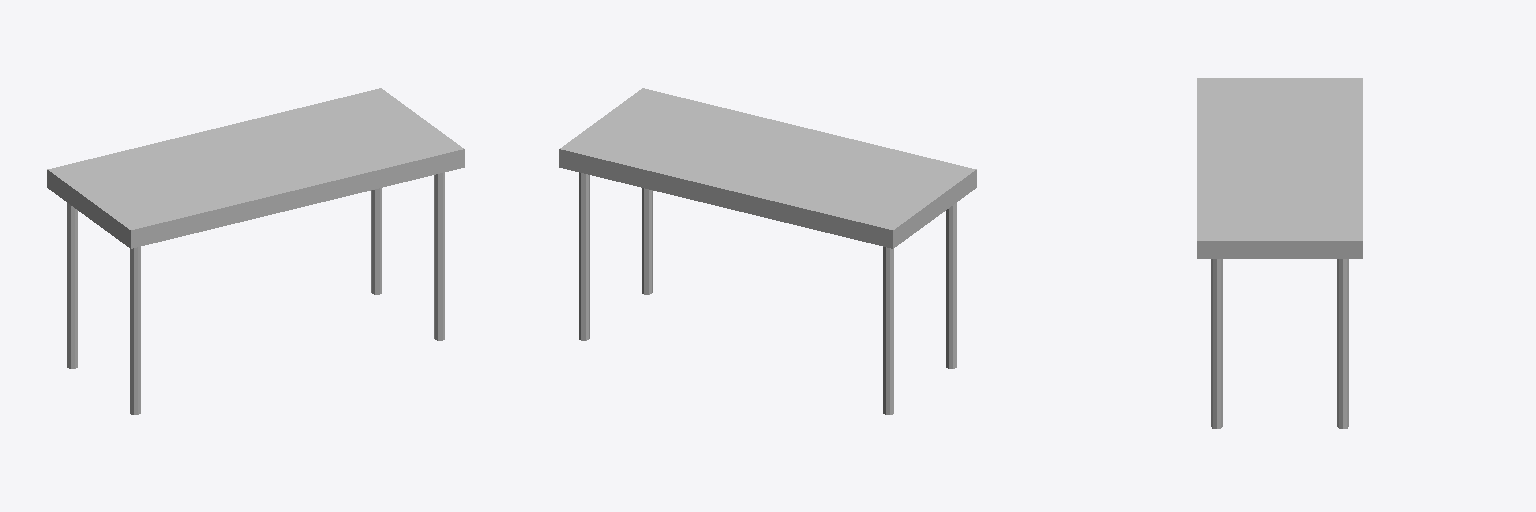
File: Desk.obj
3 views of the same model, side by side, from view 1: azimuth 30°, elevation 25°; view 2: azimuth 150°, elevation 25°; view 3: azimuth 270°, elevation 25° (orthographic).
Parts seen in each view (by area): view 1: Desk_Cube; view 2: Desk_Cube; view 3: Desk_Cube.
Boxes of the visible parts, <box> form: Desk_Cube: <box>47,88,464,414</box>; Desk_Cube: <box>559,88,976,414</box>; Desk_Cube: <box>1197,78,1362,428</box>.
Bounding box in the file's own units: 1.33 × 0.7366 × 0.5748.